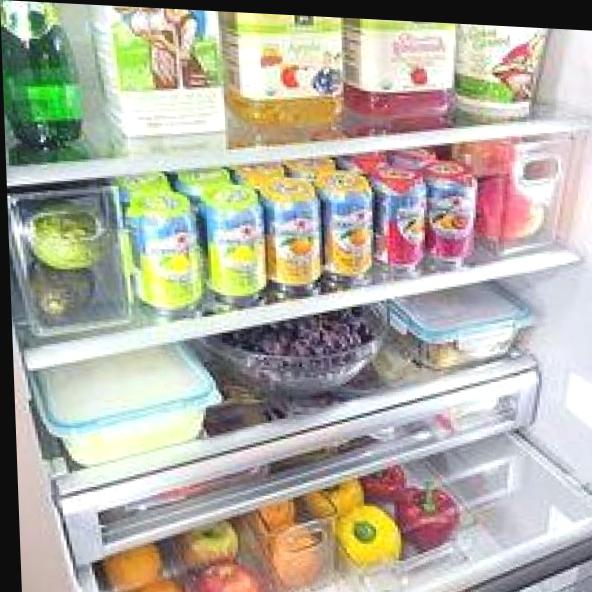apple: (186, 522, 237, 569), (200, 560, 261, 592)
blueberries: (246, 316, 371, 384)
mineral water: (0, 0, 88, 143)
orange: (110, 540, 168, 592), (135, 579, 180, 592)
red bell pepper: (399, 488, 461, 548), (366, 466, 407, 506)
yellow bell pepper: (337, 505, 401, 564), (303, 478, 361, 518)
